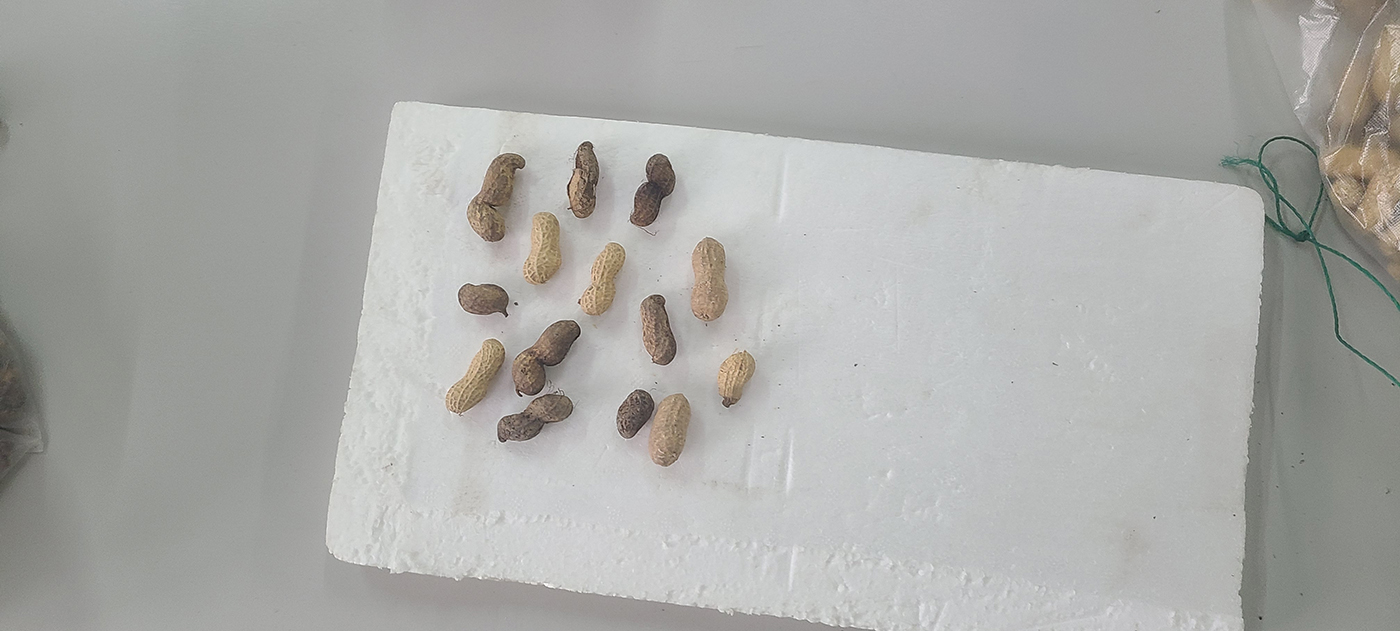h: (445, 338, 507, 412), (580, 242, 626, 316), (690, 235, 729, 321), (648, 392, 692, 467), (522, 212, 562, 285), (716, 351, 757, 406)
l: (512, 319, 582, 395), (466, 152, 525, 241), (496, 394, 573, 442), (629, 154, 675, 225), (640, 293, 676, 366), (567, 140, 598, 218), (616, 389, 655, 438), (458, 282, 509, 316)
